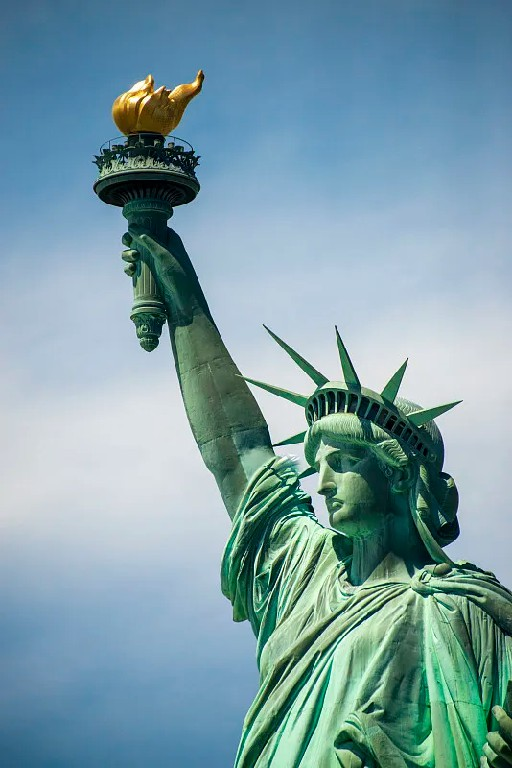SL: (91, 68, 512, 768)
